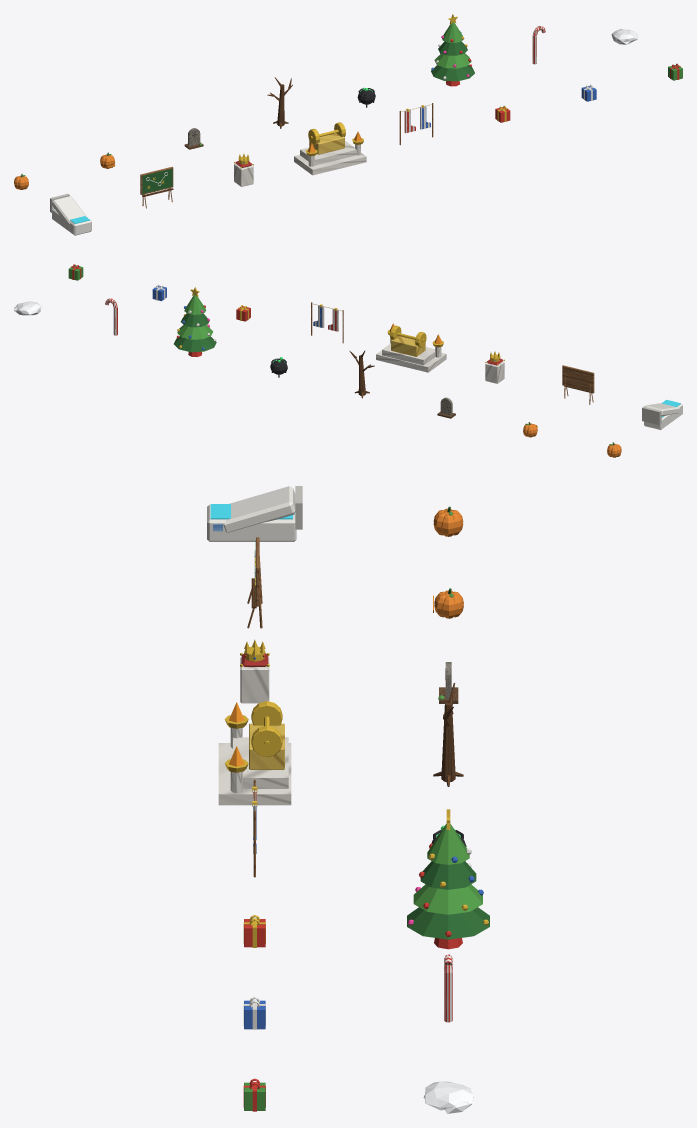
Rendered from Props_Events.fbx.
The picture shows the model from 3 angles, top to bottom: view 1: azimuth 30°, elevation 25°; view 2: azimuth 150°, elevation 25°; view 3: azimuth 270°, elevation 25°; orthographic projection. The views are drawn at different scales.
Visible parts, largest first — view 1: PumpAltar, ChristmasTree, TanningBed, TacticsBoard, GiantSocks, CrownCushion, DeadTree; view 2: PumpAltar, ChristmasTree, TanningBed, TacticsBoard, GiantSocks, CrownCushion, DeadTree, SnowPile; view 3: PumpAltar, ChristmasTree, TanningBed, CrownCushion, SnowPile, DeadTree.
Boxes of the visible parts, bbox=[...] form: PumpAltar: bbox=[294, 122, 366, 175]; ChristmasTree: bbox=[431, 14, 474, 86]; TanningBed: bbox=[50, 193, 91, 235]; TacticsBoard: bbox=[140, 166, 173, 208]; GiantSocks: bbox=[399, 103, 433, 145]; CrownCushion: bbox=[234, 153, 253, 186]; DeadTree: bbox=[267, 77, 292, 128]; PumpAltar: bbox=[376, 323, 446, 372]; ChristmasTree: bbox=[174, 287, 216, 356]; TanningBed: bbox=[642, 399, 682, 429]; TacticsBoard: bbox=[562, 365, 594, 404]; GiantSocks: bbox=[311, 302, 343, 343]; CrownCushion: bbox=[485, 351, 504, 383]; DeadTree: bbox=[349, 350, 374, 398]; SnowPile: bbox=[14, 301, 41, 315]; PumpAltar: bbox=[218, 701, 291, 805]; ChristmasTree: bbox=[407, 809, 489, 949]; TanningBed: bbox=[207, 486, 302, 541]; CrownCushion: bbox=[240, 639, 269, 703]; SnowPile: bbox=[423, 1081, 473, 1113]; DeadTree: bbox=[433, 683, 463, 786].
Size of the model in its own units: 116 by 12.2 by 23.37.
Materials: 1 (1 with a texture image).
